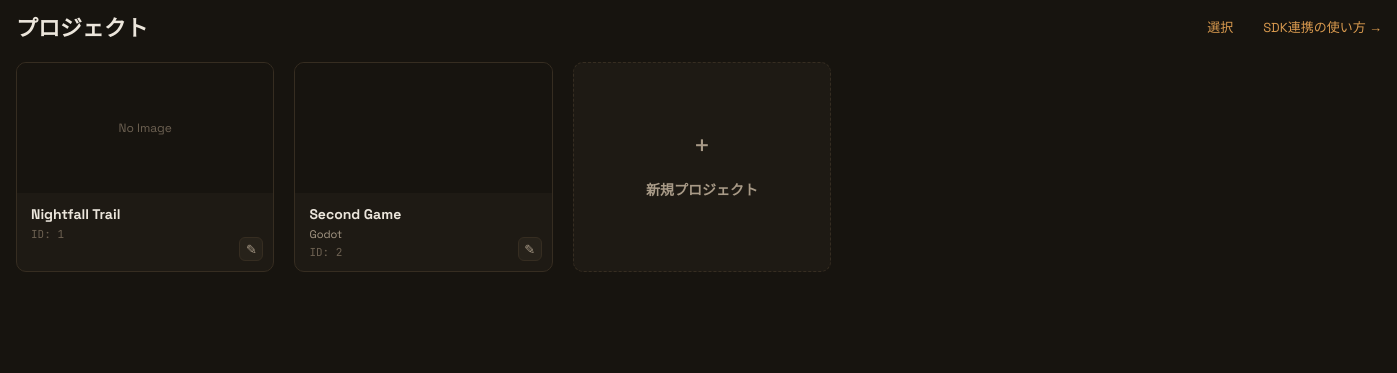
ProjectsPage › shows an error message when creation fails
Step 1. Click the button "+ 新規プロジェクト" → (702, 167), box [573,62,831,272]
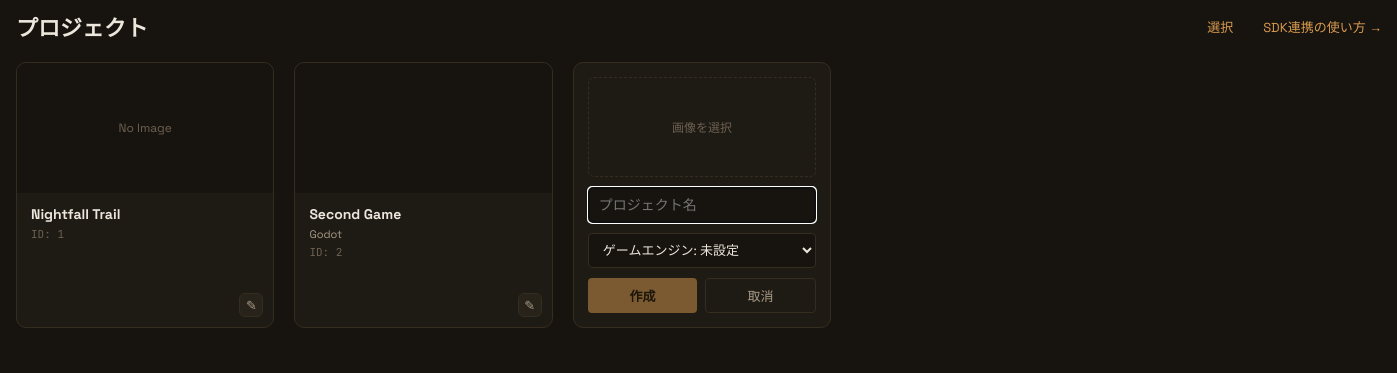
Step 2. Type "x" into the field with placeholder "プロジェクト名" → (702, 205), box [588,187,816,223]
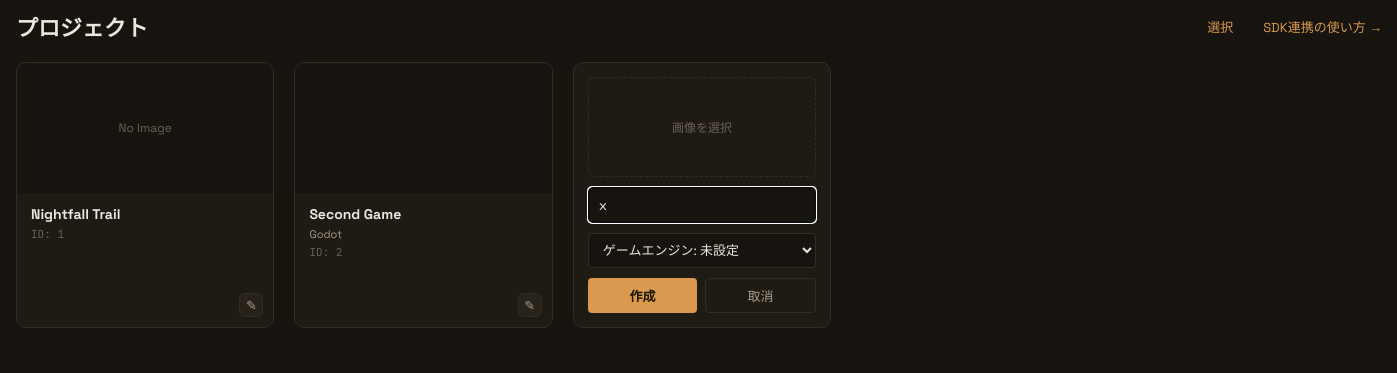
Step 3. Click the button "作成" → (642, 296), box [588,278,697,313]
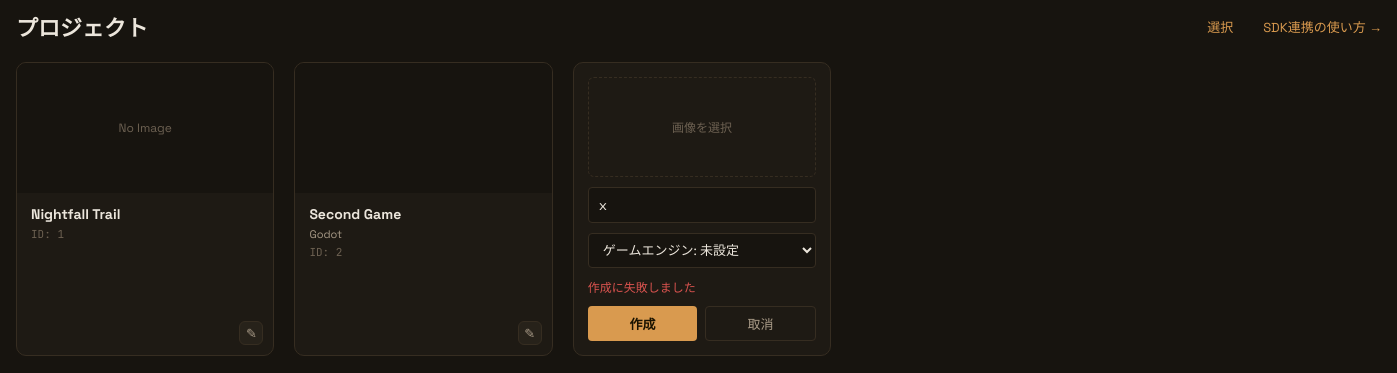
Expected: the text "作成に失敗しました" is shown, [588,280,696,296]
